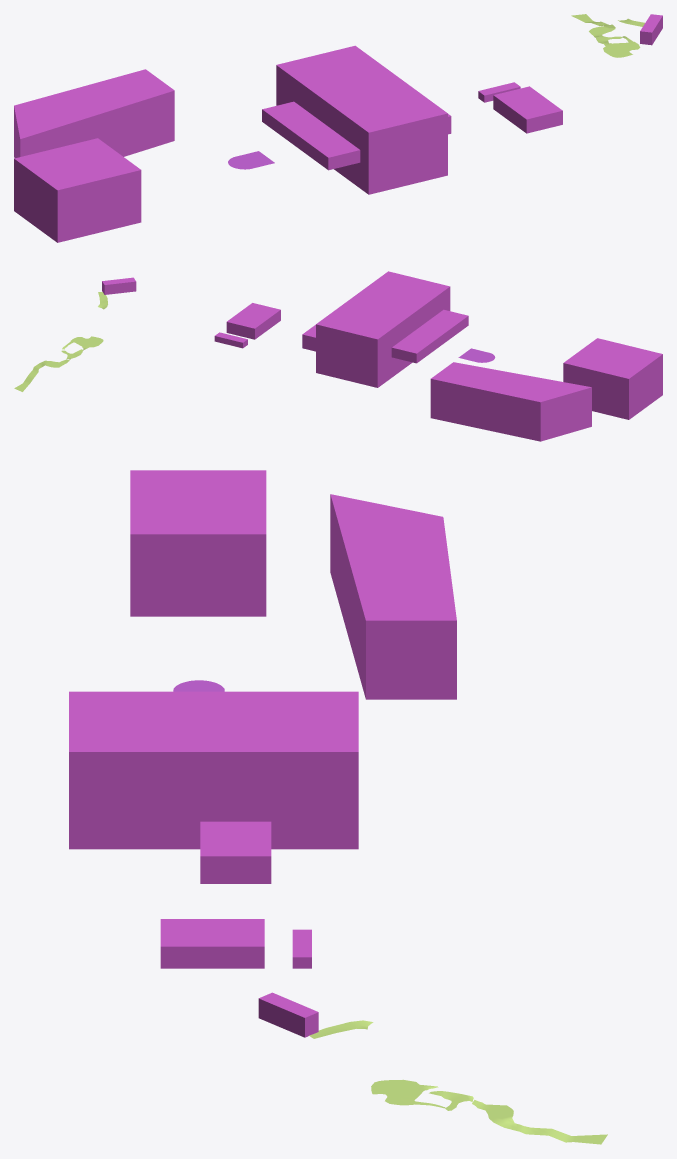
File: deltahalo_00_design.fbx
The picture shows the model from 3 angles, top to bottom: view 1: azimuth 30°, elevation 25°; view 2: azimuth 150°, elevation 25°; view 3: azimuth 270°, elevation 25°; orthographic projection. The views are drawn at different scales.
Visible parts, largest first — view 1: rain_blocker:+weatherpoly, water_surface:water_grotto.001, water_surface:water_plane.001; view 2: rain_blocker:+weatherpoly, water_surface:water_grotto.001, water_surface:water_plane.001; view 3: rain_blocker:+weatherpoly, water_surface:water_grotto.001.
Boxes of the visible parts, left/top/right/bottom form: rain_blocker:+weatherpoly: left=14, top=14, right=662, bottom=242; water_surface:water_grotto.001: left=571, top=14, right=644, bottom=57; water_surface:water_plane.001: left=228, top=151, right=274, bottom=169; rain_blocker:+weatherpoly: left=102, top=271, right=662, bottom=441; water_surface:water_grotto.001: left=14, top=292, right=107, bottom=391; water_surface:water_plane.001: left=458, top=348, right=495, bottom=362; rain_blocker:+weatherpoly: left=69, top=470, right=456, bottom=1037; water_surface:water_grotto.001: left=309, top=1020, right=607, bottom=1144.
Size of what is drawn, in the model's own units: 7373 by 16787 by 2370.
